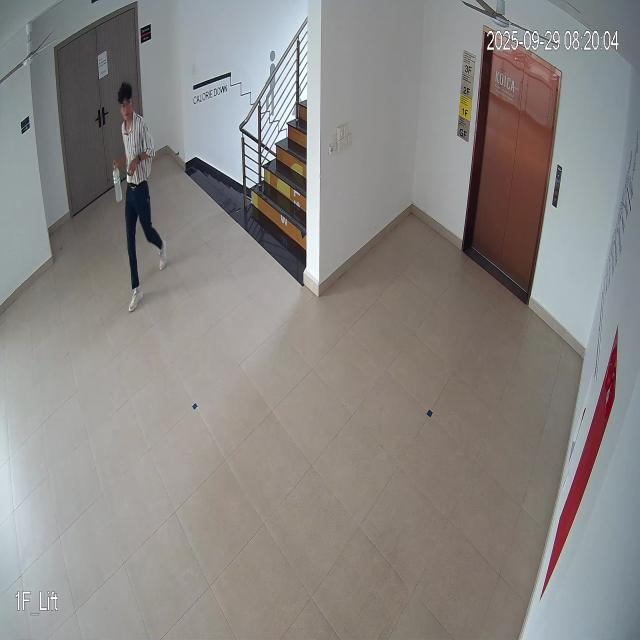face: (118, 80, 137, 126)
